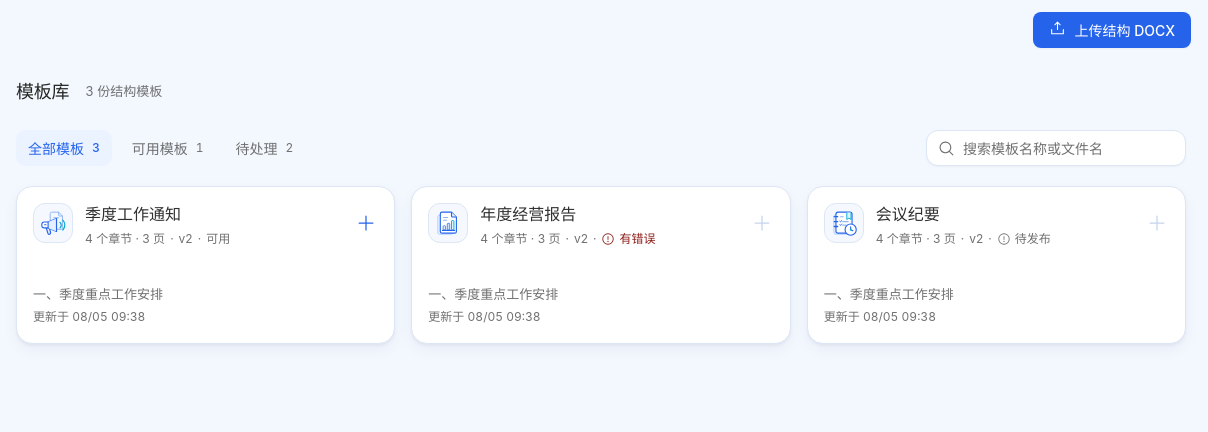
Test: TemplateLibraryView › combines filename search with status filters and recovers from no results
Expected: the button named "使用模板 年度经营报告" is disabled, [744,205,780,241]
Expected: the button named "使用模板 会议纪要" is disabled, [1139,205,1175,241]
Click the button "待处理 2" at (264, 148), box [224,130,305,166]
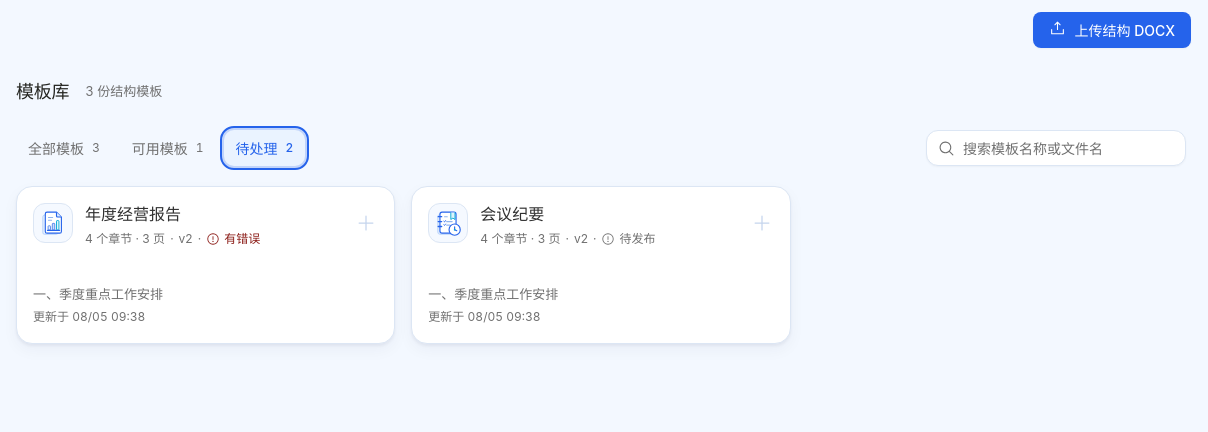
Result: the number of buttons named "打开模板" is 2 at [17,187,394,343]; [412,187,790,343]
Type "  ANNUAL  " into the field labelled "搜索模板" at (1060, 148), box [963,138,1158,158]
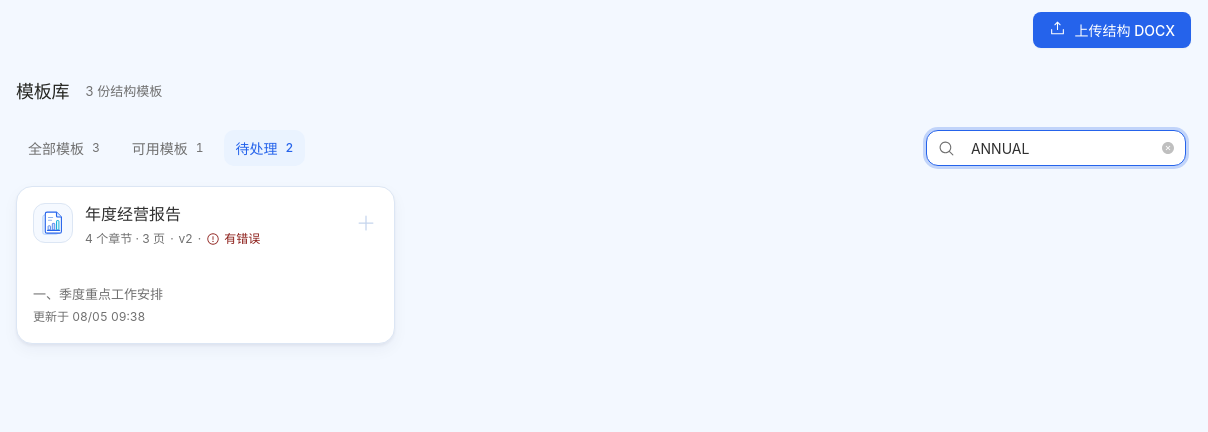
Expected: the button with aria-label "打开模板 年度经营报告" is shown, [17,187,394,343]
Click the button "可用模板 1" at (168, 148), box [120,130,216,166]
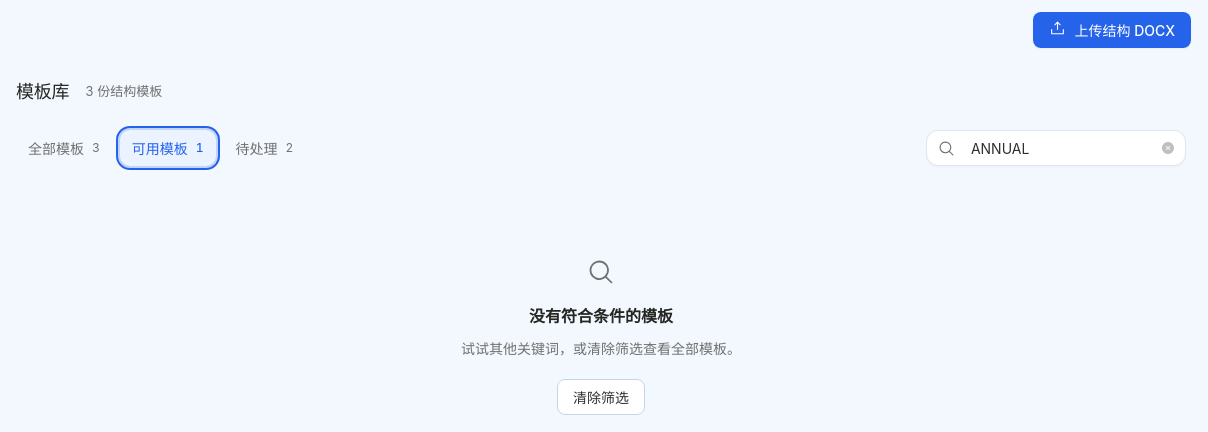
Result: the heading "没有符合条件的模板" is shown at [529,304,673,328]
Click the button "清除筛选" at (601, 397), box [557,379,645,415]
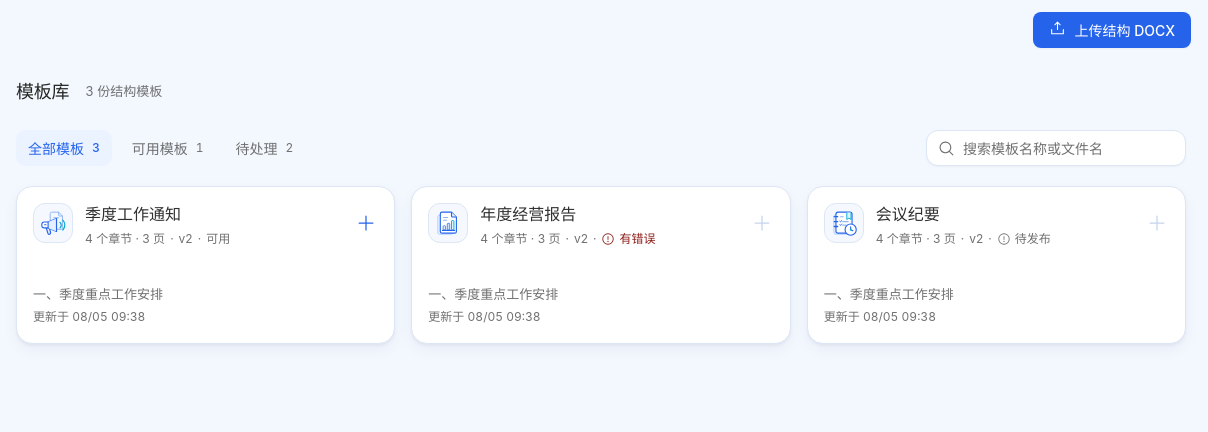
Result: the number of buttons named "打开模板" is 3 at [17,187,394,343]; [412,187,790,343]; [808,187,1185,343]
Result: the field labelled "搜索模板" is empty at [963,138,1158,158]
